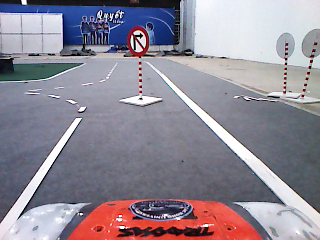ban: (126, 25, 150, 57)
